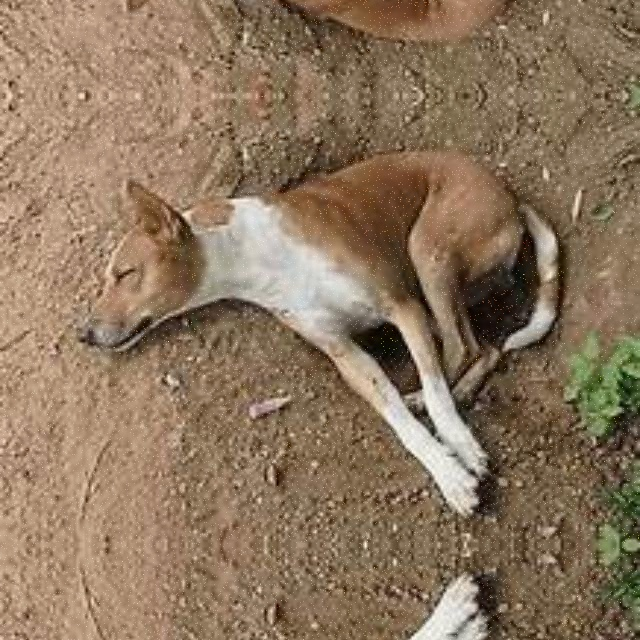dog: (60, 154, 585, 492), (59, 597, 584, 640), (59, 0, 584, 36)
